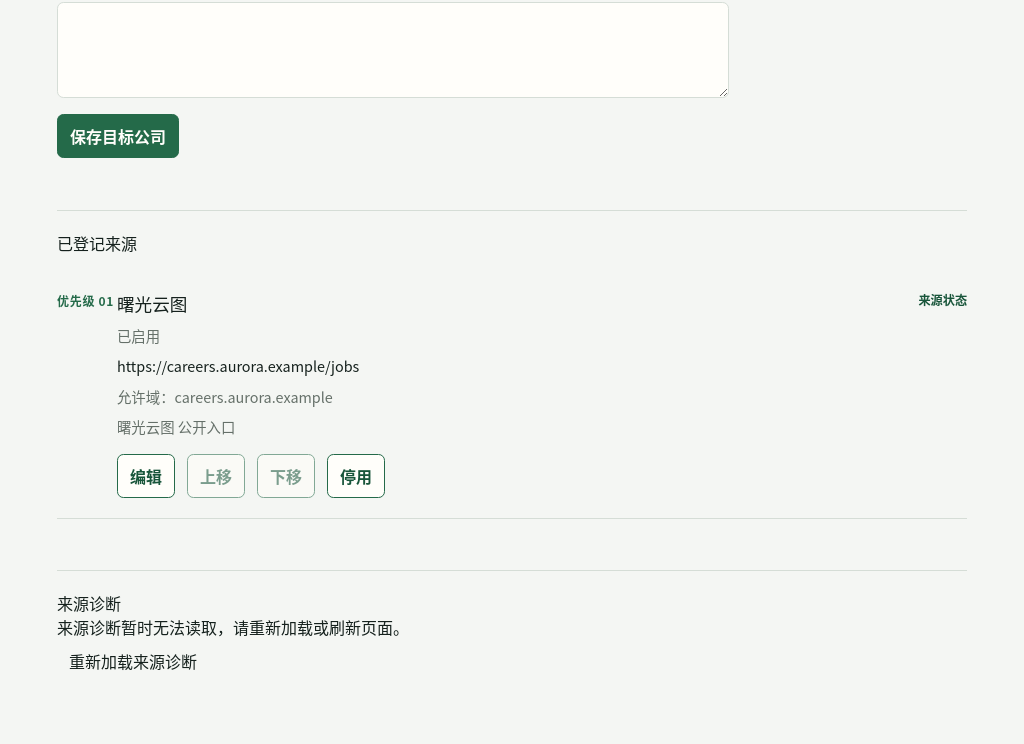
Test: 初始健康读取降级时保留 Watchlist 控制与可恢复诊断
(page scrolled)
Expected: the text "来源诊断暂时无法读取，请重新加载或刷新页面。" is shown, [57,615,409,639]
Expected: the button with aria-label "编辑 曙光云图" is enabled, [117,454,175,498]
What coordinates should you click on to do the following:
click the button "重新加载来源诊断"
I would click on:
 (133, 661)
Its box is [57,639,209,683].
(page scrolled)
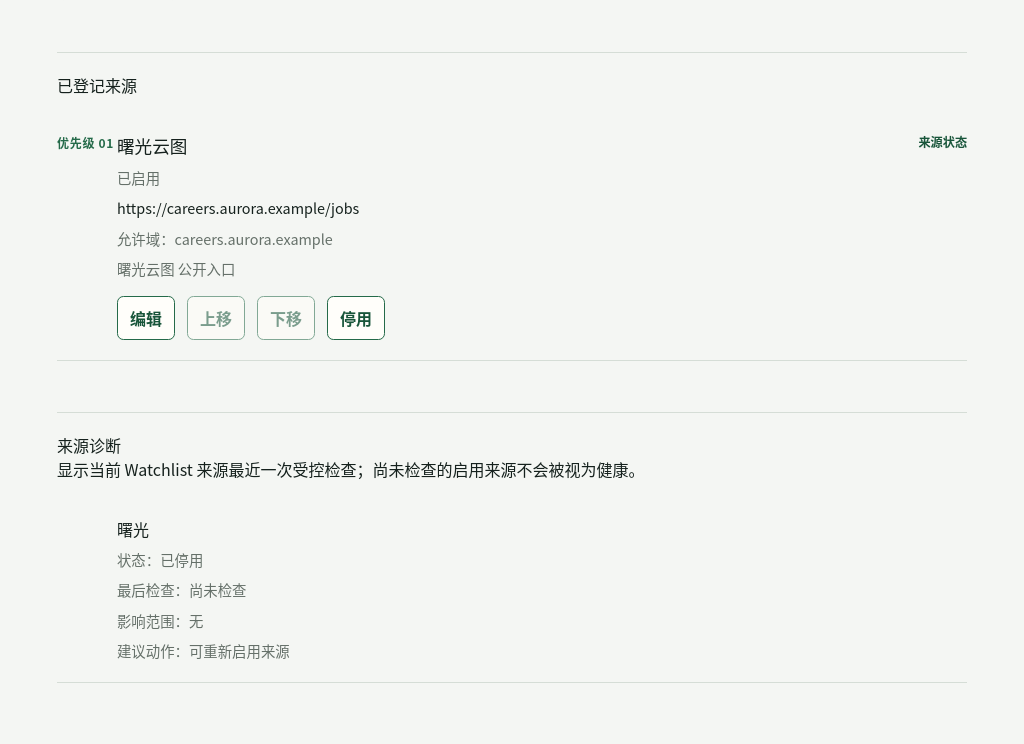
Expected: the element named "曙光 来源诊断" shows "已停用", [160,549,203,570]
Expected: the button "重新加载来源诊断" is gone
